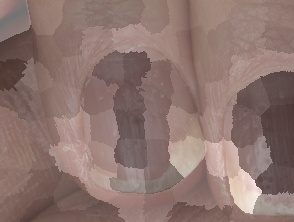Nail_psoriasis: (46, 4, 217, 216), (209, 22, 294, 222)
